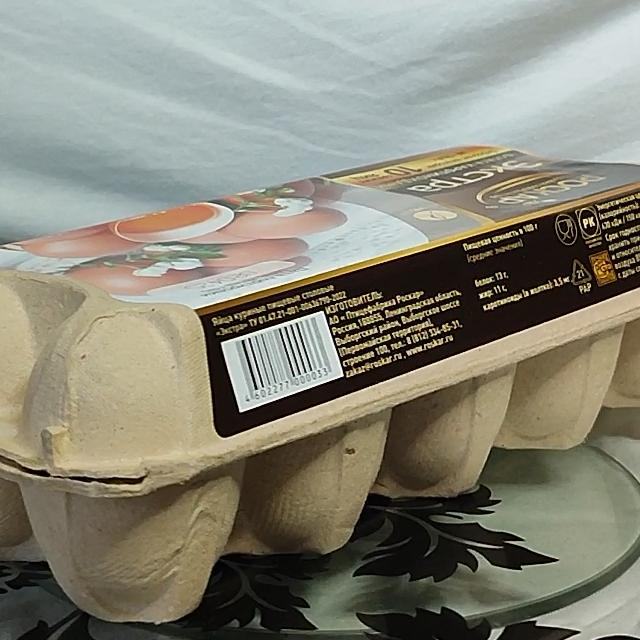egg: (0, 147, 640, 619)
